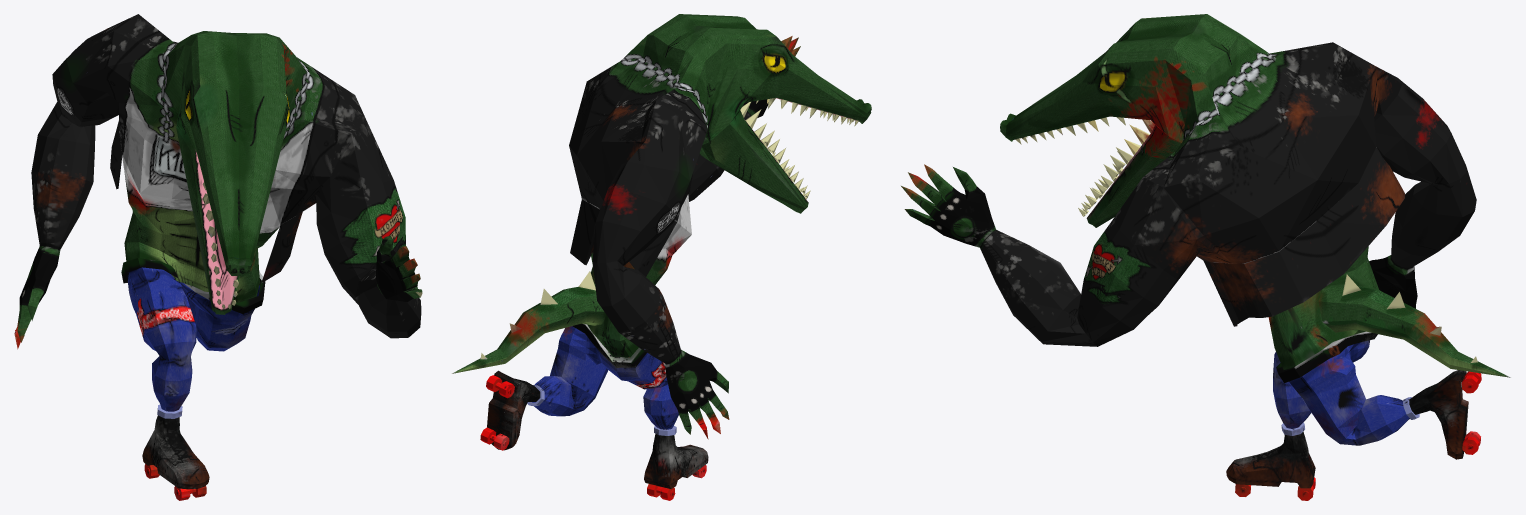
File: cocodrilaBonesSelect_000009.obj
3 renders of one model, left to right at view 1: azimuth 30°, elevation 25°; view 2: azimuth 150°, elevation 25°; view 3: azimuth 270°, elevation 25°, orthographic. The views are drawn at different scales.
Visible parts, largest first — view 1: Crocodile.002_Cylinder.002; view 2: Crocodile.002_Cylinder.002; view 3: Crocodile.002_Cylinder.002.
Part boxes in pixels (left/top/right/bottom): Crocodile.002_Cylinder.002: left=14, top=14, right=422, bottom=500; Crocodile.002_Cylinder.002: left=452, top=14, right=871, bottom=500; Crocodile.002_Cylinder.002: left=901, top=14, right=1510, bottom=500.
Size of the model in its own units: 3.25 by 5.87 by 6.82.
